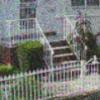stairs: (39, 37, 82, 81)
